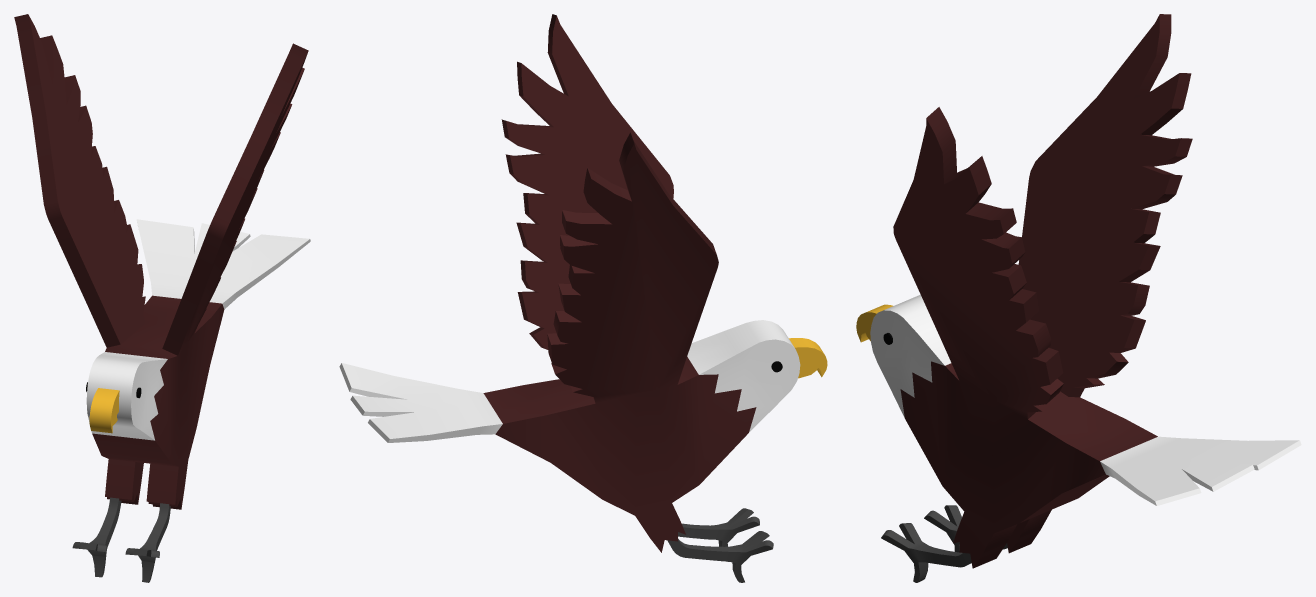
The model's file is eagle.glb.
The picture shows the model from 3 angles, left to right: view 1: azimuth 30°, elevation 25°; view 2: azimuth 150°, elevation 25°; view 3: azimuth 270°, elevation 25°; orthographic projection. The views are drawn at different scales.
Parts seen in each view (by area): view 1: Cube.116; view 2: Cube.116; view 3: Cube.116.
Part boxes in pixels (x1,y1,x2,y2): Cube.116: [14, 14, 310, 582]; Cube.116: [339, 14, 827, 582]; Cube.116: [856, 14, 1301, 582].
Bounding box in the file's own units: 1.58 × 2.16 × 1.55.
1 material, 1 textured.
